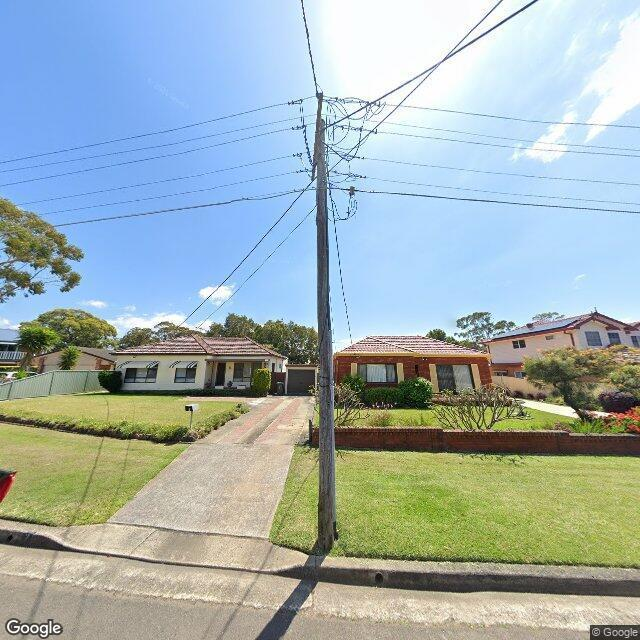crossarm: (310, 94, 323, 180)
timber-pole: (317, 117, 339, 549)
